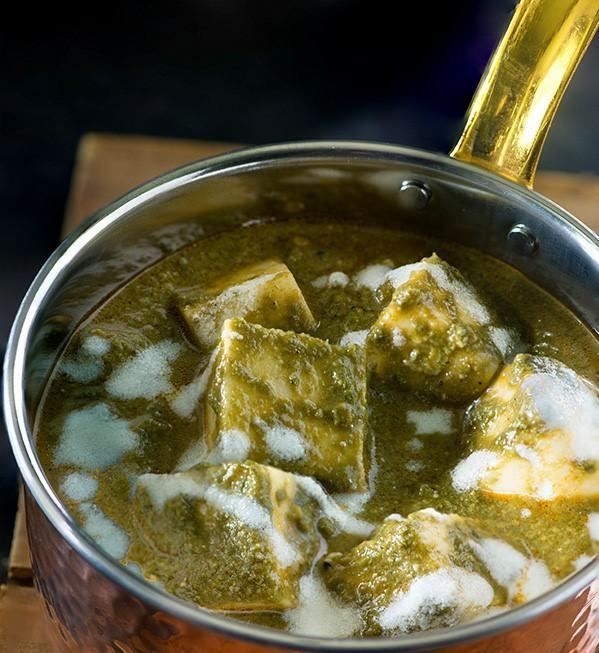PalakPaneer: (32, 225, 599, 644)
